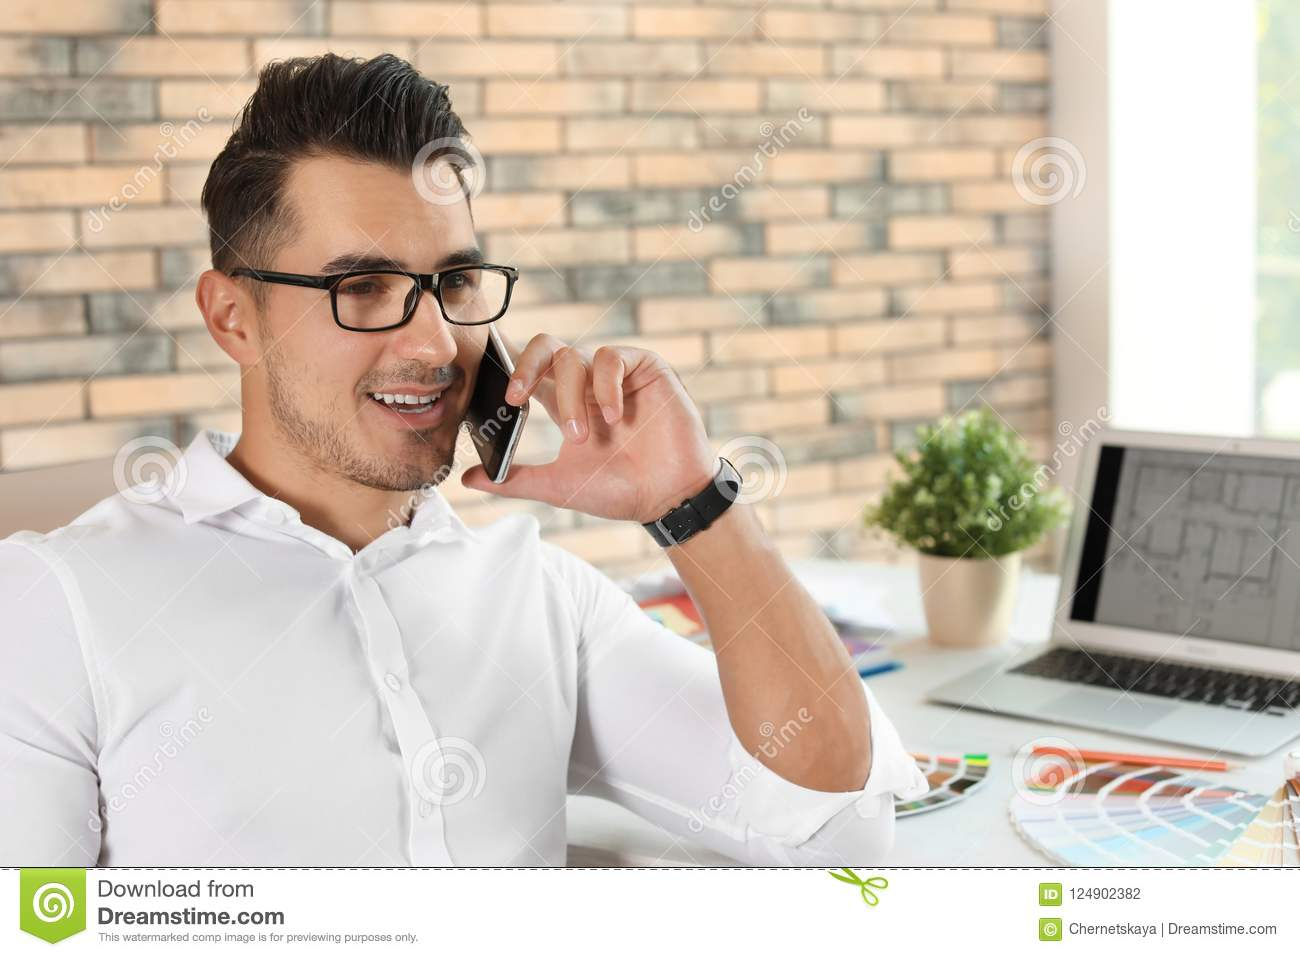phone: (465, 317, 535, 498)
talk: (305, 242, 699, 520)
